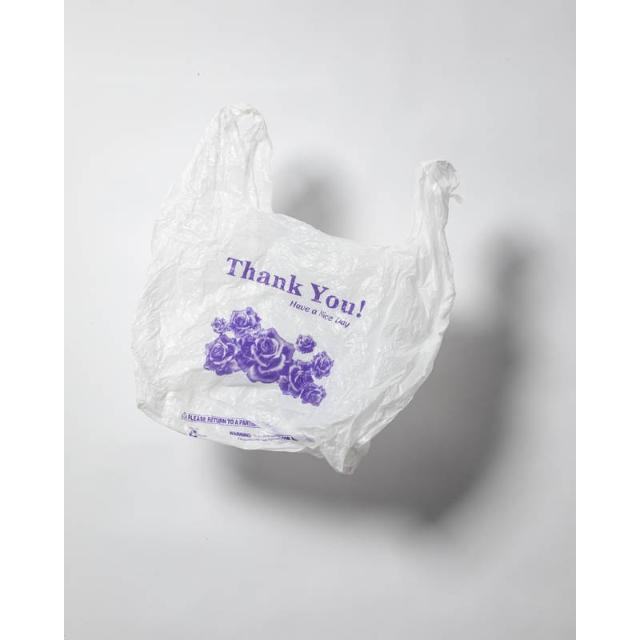plastic: (132, 109, 456, 470)
